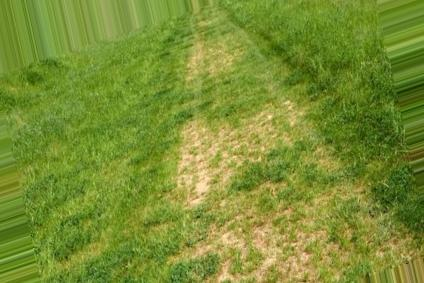patch: (183, 130, 279, 221), (216, 232, 326, 282), (195, 29, 234, 79)
